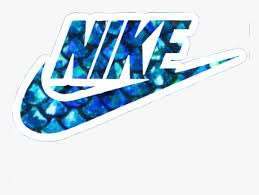nike: (20, 54, 240, 135)
